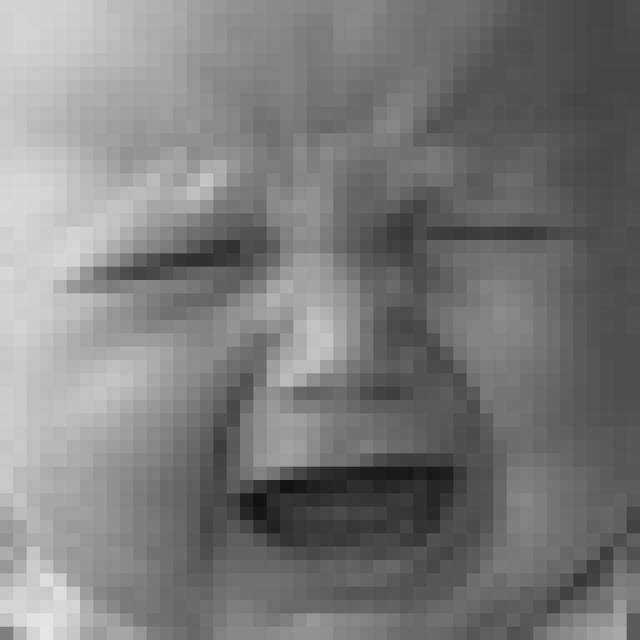sad: (48, 124, 575, 578)
